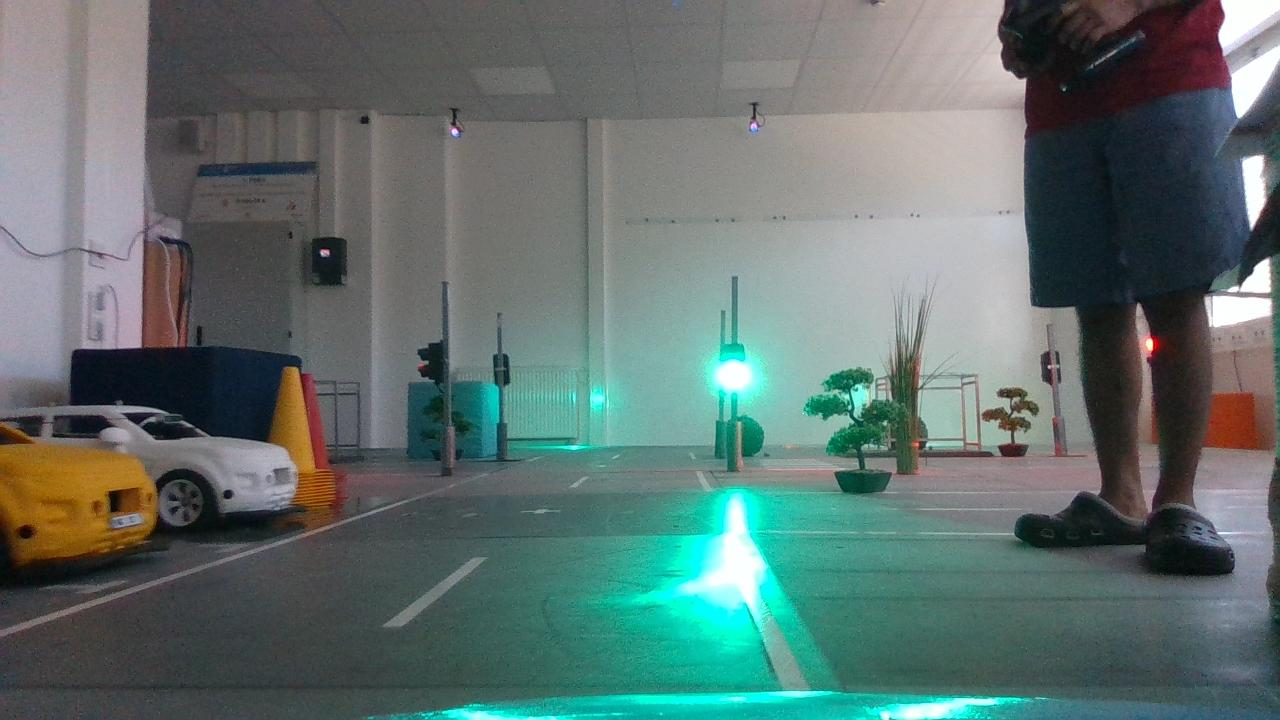traffic_light_green: (705, 336, 758, 402)
